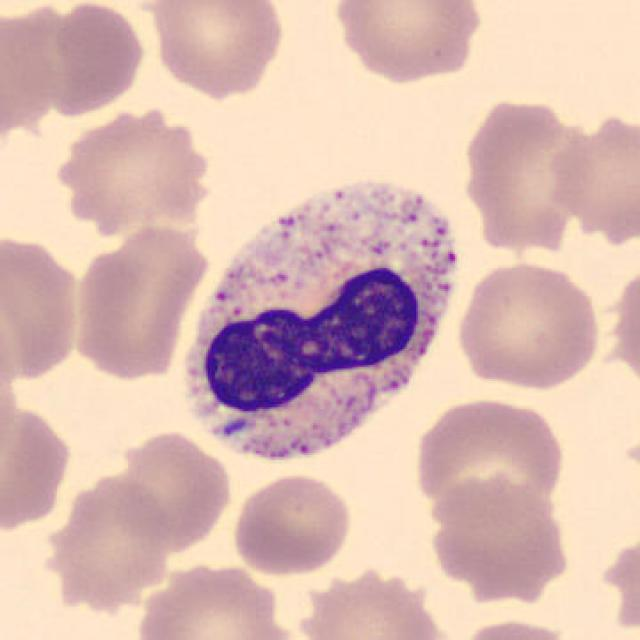Neutrophil: (167, 173, 469, 483)
RBC: (49, 95, 222, 248), (68, 217, 214, 382), (409, 392, 571, 528), (427, 468, 571, 611), (459, 91, 585, 254), (454, 257, 604, 393), (49, 478, 174, 613), (108, 426, 234, 554), (144, 0, 288, 99), (228, 469, 356, 578), (0, 226, 87, 386), (329, 0, 487, 85), (134, 559, 294, 640), (548, 107, 640, 247), (294, 564, 462, 640), (44, 0, 148, 115), (0, 404, 74, 539), (0, 5, 73, 134), (596, 526, 640, 629), (607, 259, 640, 381), (454, 615, 580, 640)
